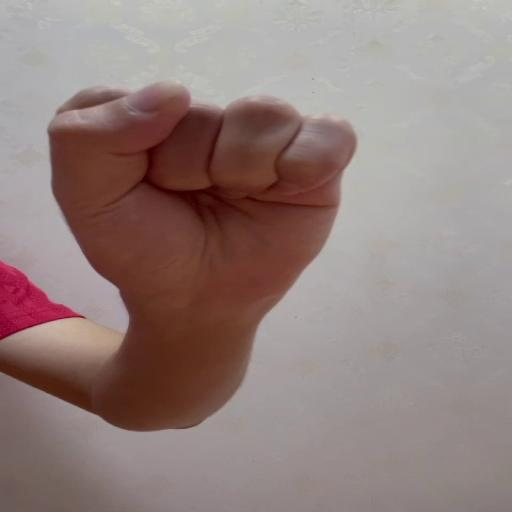fist: (48, 76, 358, 301)
